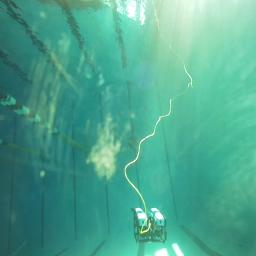back: (131, 207, 168, 243)
